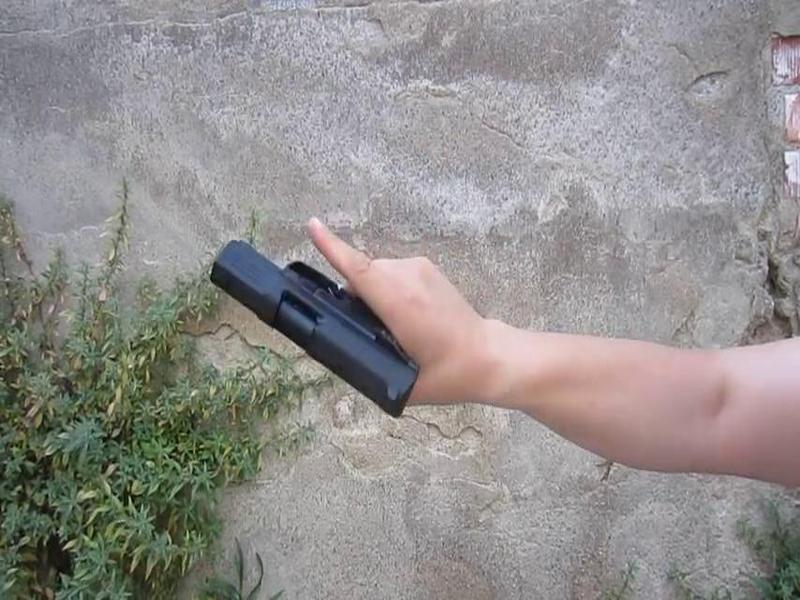Pistola: (163, 228, 447, 407)
